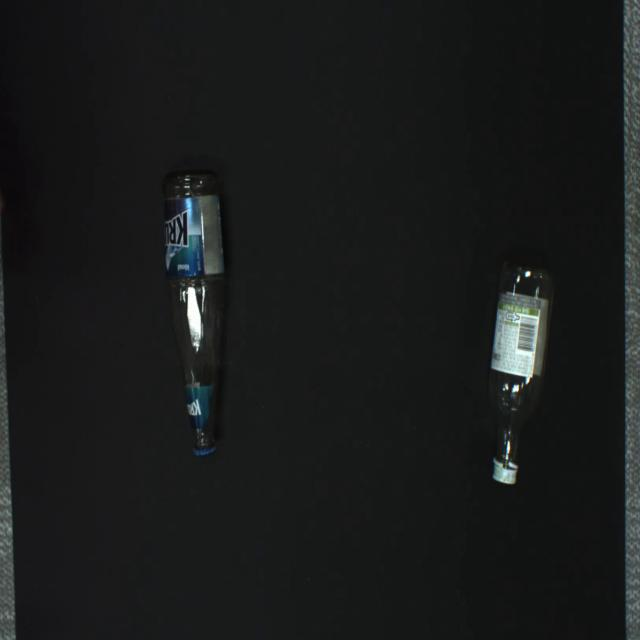beer-bottle: (163, 171, 225, 455)
soju-bottle: (490, 264, 553, 485)
